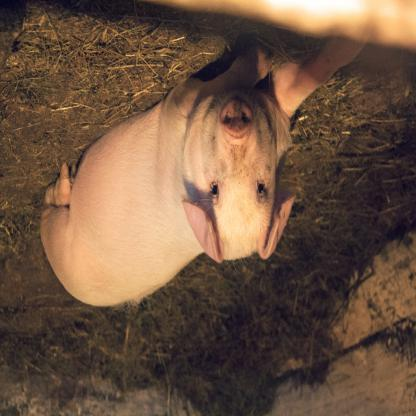boar: (39, 30, 371, 309)
